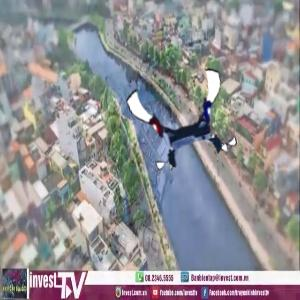drone: (132, 70, 234, 172)
